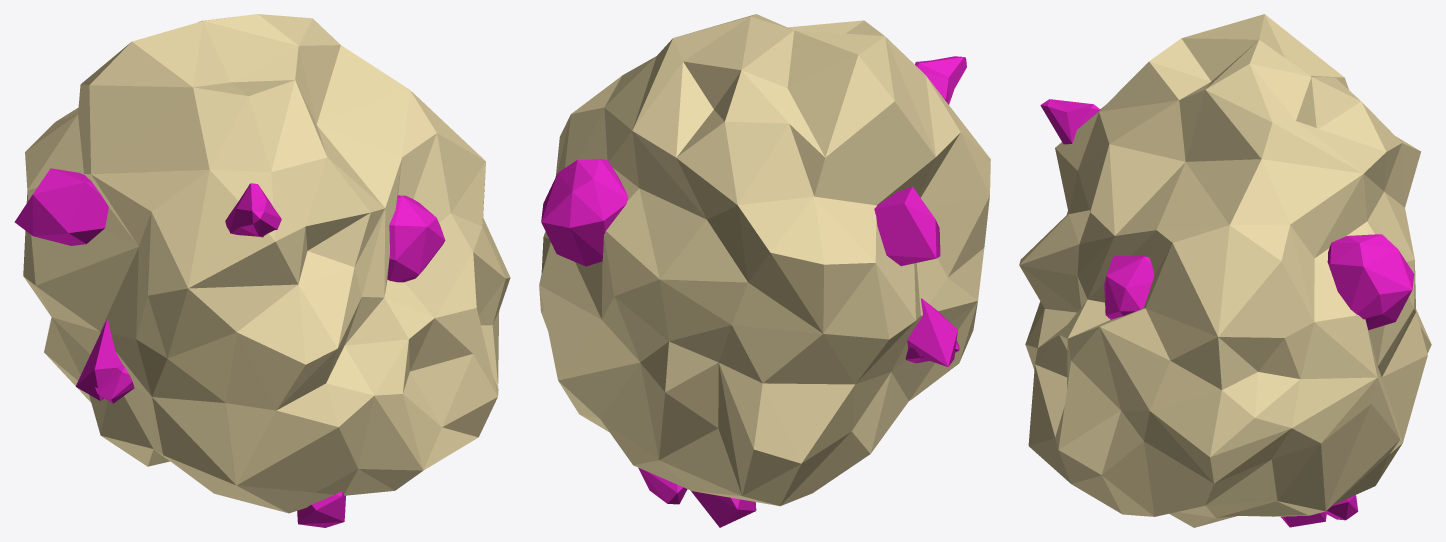
File: CrystalOre (60).fbx
3 views of the same model, side by side, from view 1: azimuth 30°, elevation 25°; view 2: azimuth 150°, elevation 25°; view 3: azimuth 270°, elevation 25° (orthographic). The views are drawn at different scales.
Parts seen in each view (by area): view 1: Asteroid280; view 2: Asteroid280; view 3: Asteroid280.
Part boxes in pixels (x1=…): Asteroid280: x1=14, y1=14, x2=510, y2=527; Asteroid280: x1=539, y1=14, x2=990, y2=527; Asteroid280: x1=1019, y1=14, x2=1431, y2=527.
Bounding box in the file's own units: 519 × 544 × 439.
